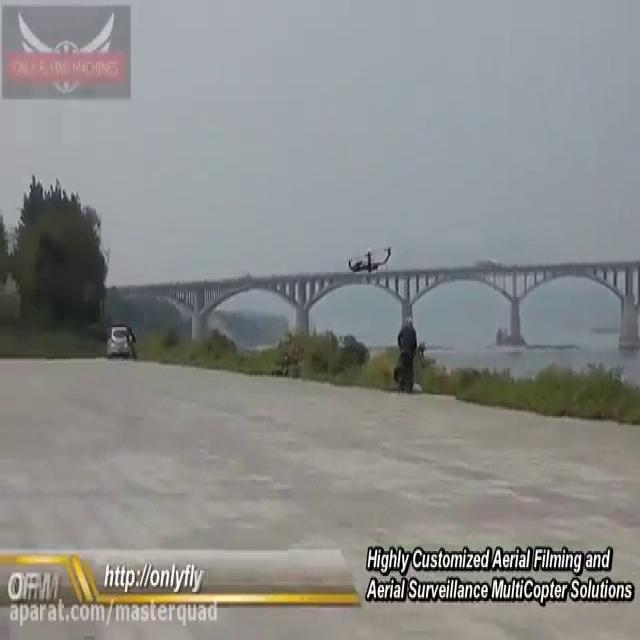drone: (344, 240, 394, 274)
